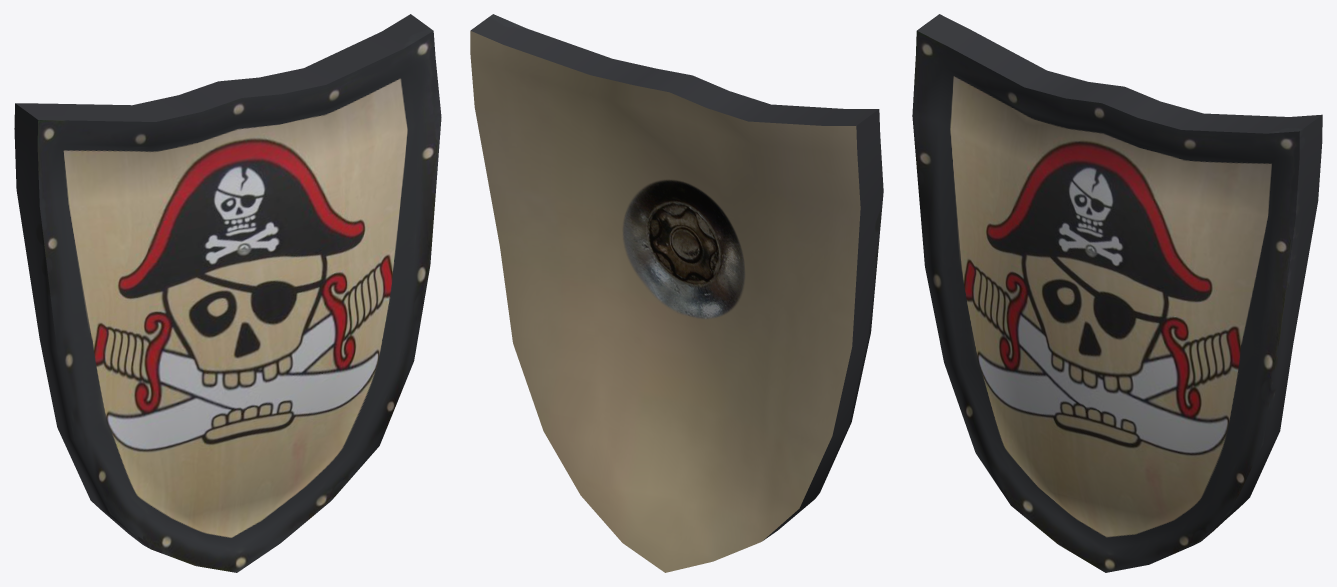
Rendered from schild.fbx.
The picture shows the model from 3 angles, left to right: view 1: azimuth 30°, elevation 25°; view 2: azimuth 150°, elevation 25°; view 3: azimuth 330°, elevation 25°; orthographic projection.
Parts seen in each view (by area): view 1: schild_0; view 2: schild_0; view 3: schild_0.
Boxes of the visible parts, x1=… form: schild_0: x1=14, y1=14, x2=441, y2=572; schild_0: x1=470, y1=14, x2=883, y2=572; schild_0: x1=912, y1=14, x2=1322, y2=572.
Bounding box in the file's own units: 544 × 657 × 100.
Materials: 1 (1 with a texture image).
